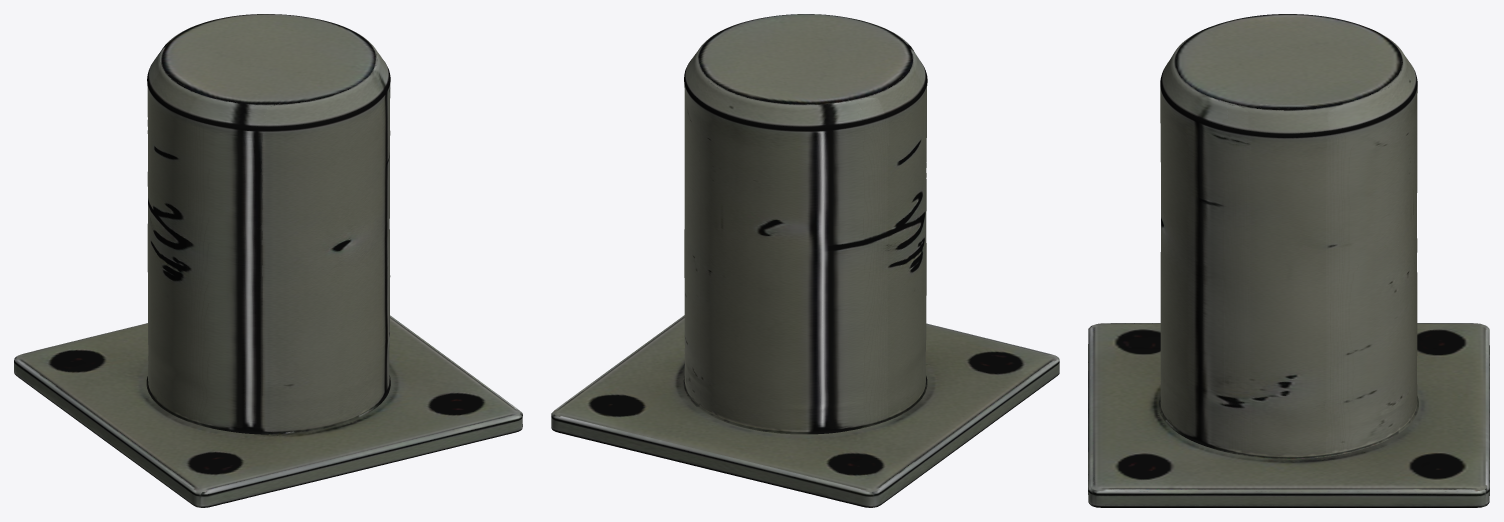
File: street-bollard.glb
3 views of the same model, side by side, from view 1: azimuth 30°, elevation 25°; view 2: azimuth 150°, elevation 25°; view 3: azimuth 270°, elevation 25° (orthographic). The views are drawn at different scales.
Visible parts, largest first — view 1: tmpq9kigfue.ply; view 2: tmpq9kigfue.ply; view 3: tmpq9kigfue.ply.
Boxes of the visible parts, x1,y1,x2,y2 form: tmpq9kigfue.ply: (14,14,522,507); tmpq9kigfue.ply: (551,14,1059,507); tmpq9kigfue.ply: (1088,14,1489,507).
Size of the model in its own units: 1 by 1 by 1.
Materials: 1 (1 with a texture image).
